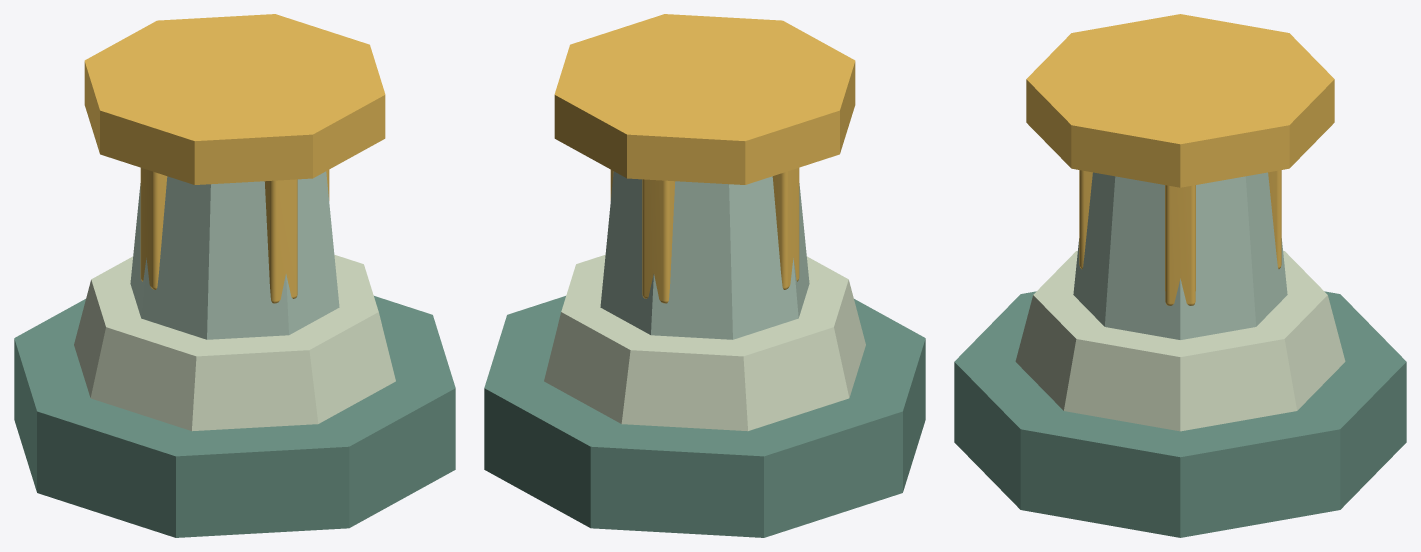
The model's file is beacon.glb.
The picture shows the model from 3 angles, left to right: view 1: azimuth 30°, elevation 25°; view 2: azimuth 150°, elevation 25°; view 3: azimuth 270°, elevation 25°; orthographic projection.
Parts seen in each view (by area): view 1: Base, Bowl, Plinth, Column, Fin.003, Fin.002; view 2: Base, Bowl, Plinth, Column, Fin.001, Fin.002; view 3: Base, Bowl, Plinth, Column, Fin, Fin.001, Fin.003.
Boxes of the visible parts, bbox=[...] form: Base: bbox=[14, 296, 455, 537]; Bowl: bbox=[84, 14, 385, 184]; Plinth: bbox=[74, 254, 395, 431]; Column: bbox=[130, 171, 339, 339]; Fin.003: bbox=[264, 179, 297, 303]; Fin.002: bbox=[140, 168, 167, 289]; Base: bbox=[484, 296, 925, 537]; Bowl: bbox=[554, 14, 855, 184]; Plinth: bbox=[544, 254, 865, 431]; Column: bbox=[600, 171, 809, 339]; Fin.001: bbox=[642, 179, 675, 303]; Fin.002: bbox=[772, 168, 799, 289]; Base: bbox=[954, 291, 1406, 537]; Bowl: bbox=[1026, 14, 1334, 187]; Plinth: bbox=[1015, 250, 1345, 431]; Column: bbox=[1073, 172, 1287, 339]; Fin: bbox=[1165, 185, 1195, 305]; Fin.001: bbox=[1268, 170, 1281, 268]; Fin.003: bbox=[1079, 170, 1092, 268].
Bounding box in the file's own units: 1.32 × 1.17 × 1.32.
